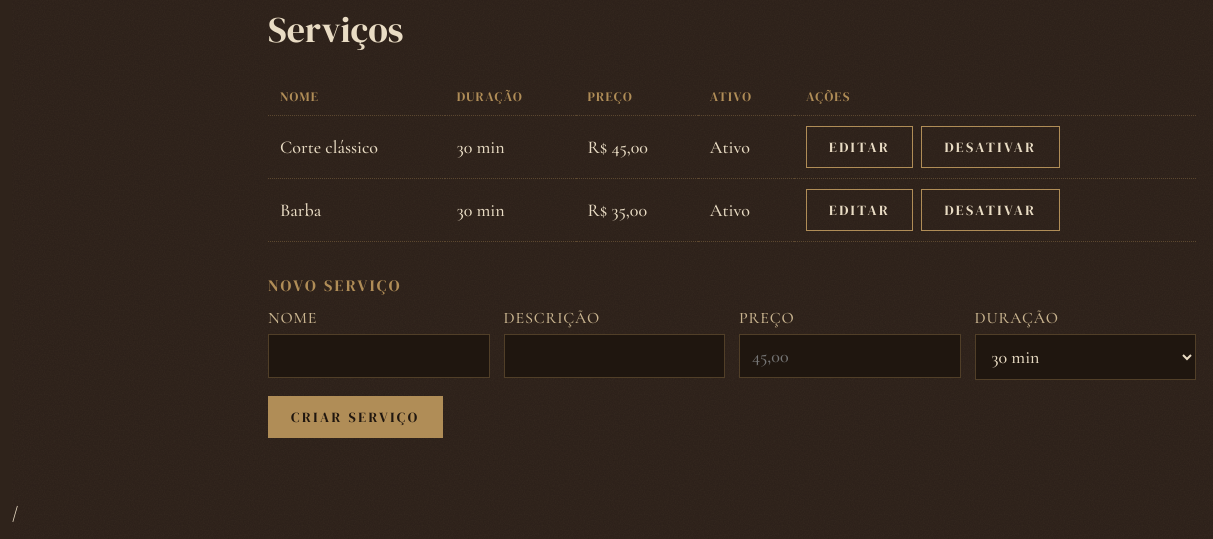
Test: Admin Services › edit sends PATCH with changed values
Click the button "Editar" in the row of "Corte clássico" at x=860, y=147, box [806,126,913,168]
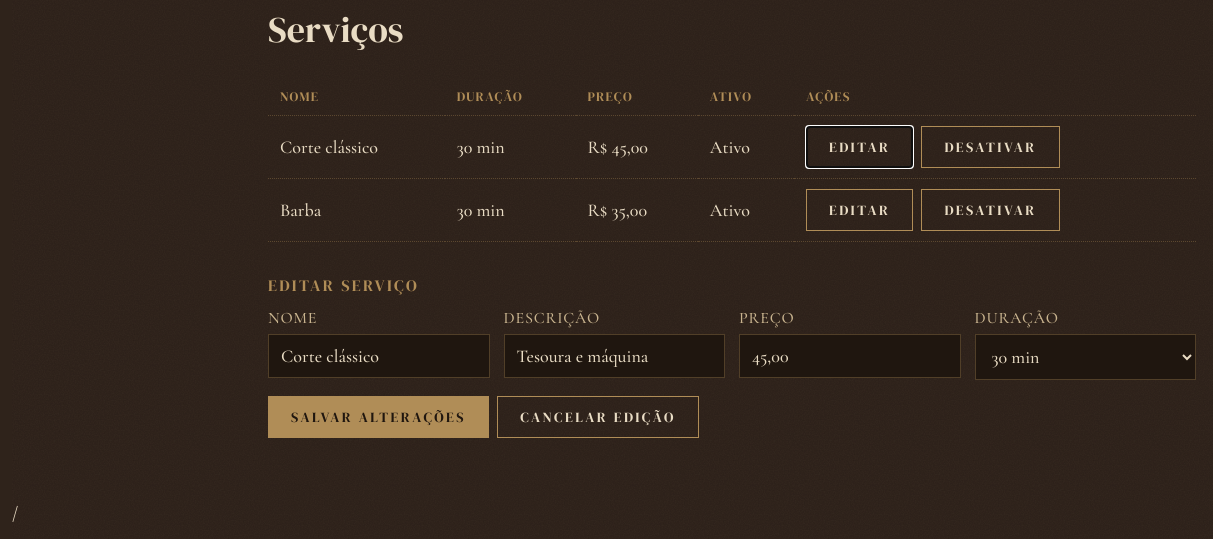
expect the field labelled "Preço" holds "45,00": met
Type "50" into the field labelled "Preço" at x=850, y=356, box [739,334,960,378]
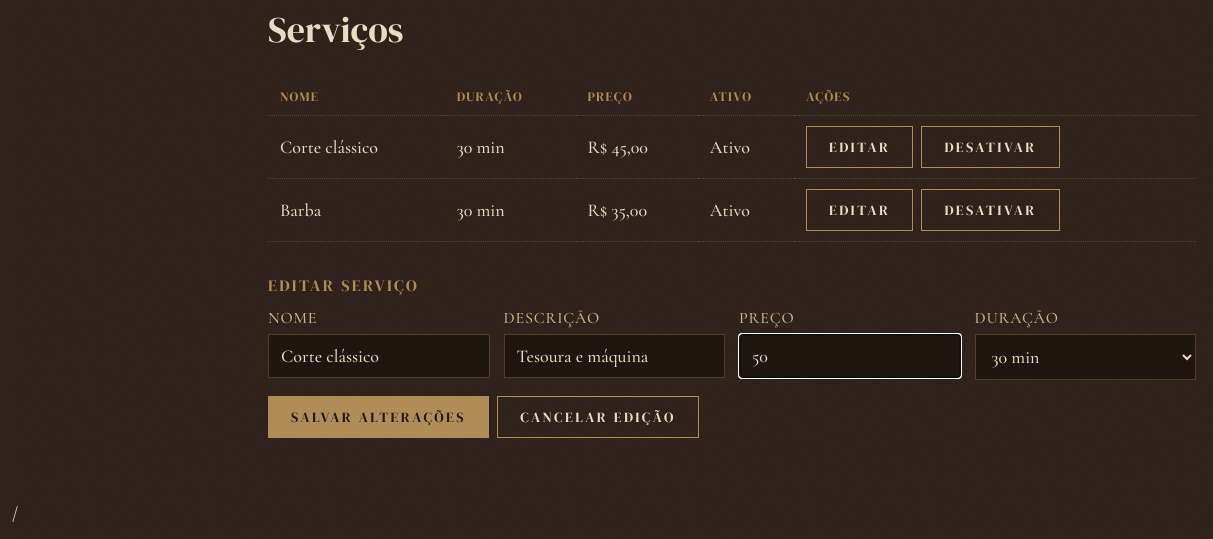
Click the button "Salvar alterações" at x=379, y=417, box [268,396,489,438]
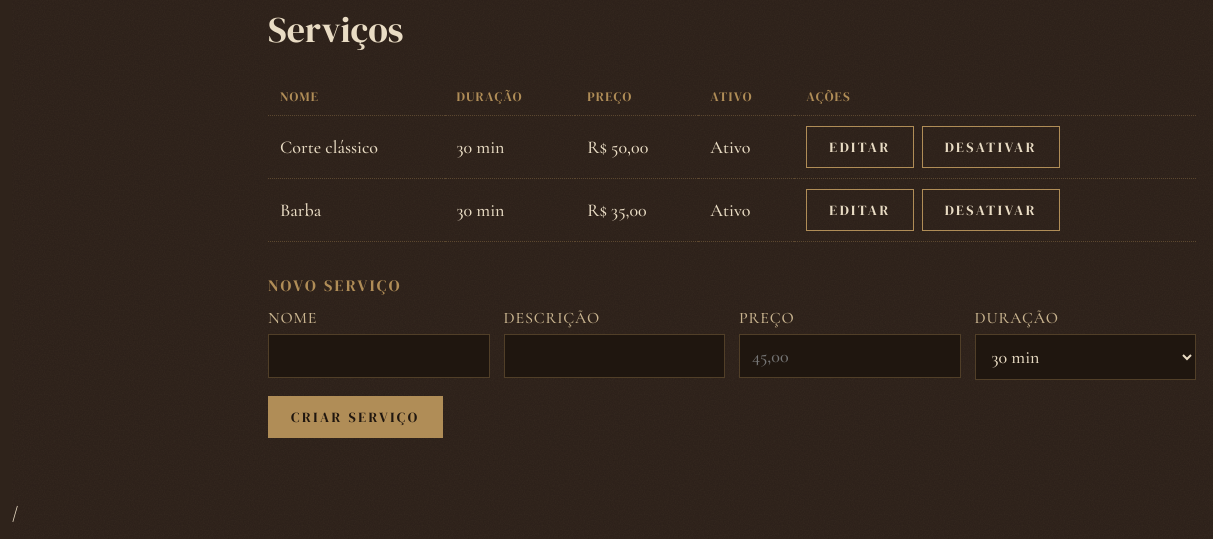
expect the cell "R$ 50,00" is shown: met, box [575,116,698,178]
